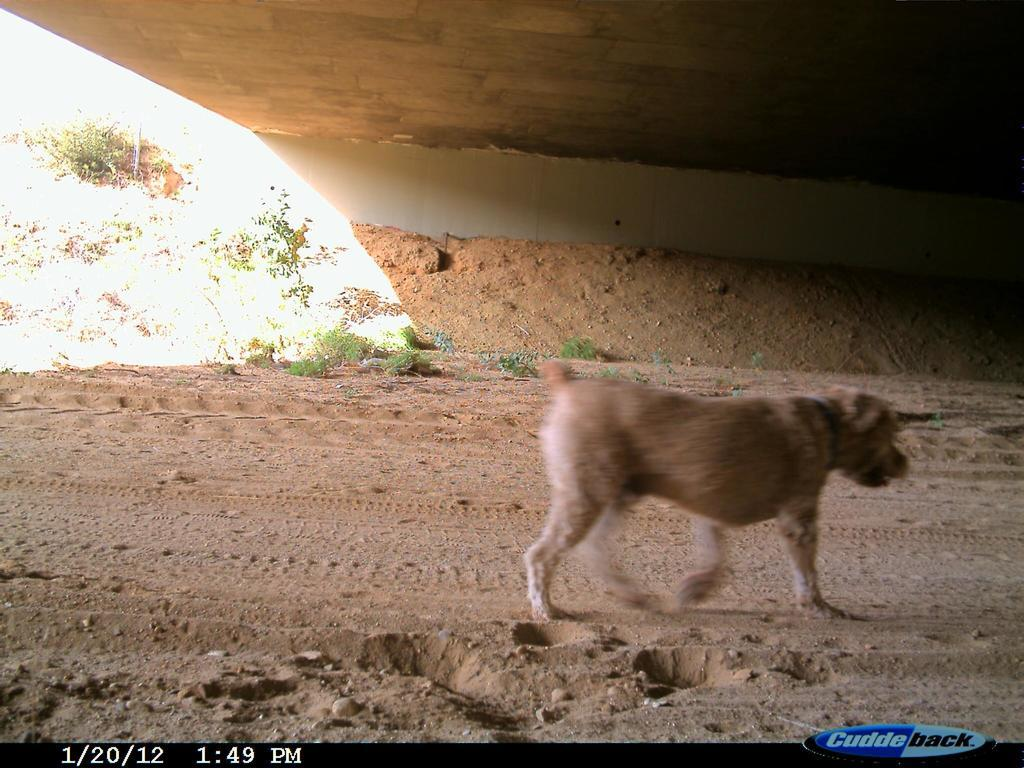dog: (495, 342, 926, 637)
